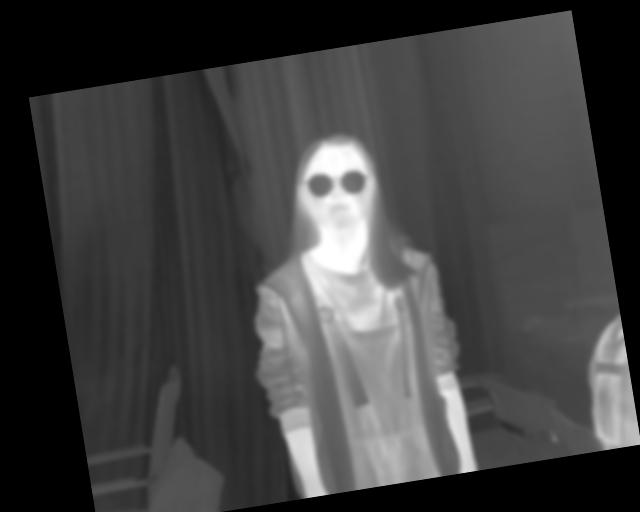face: (290, 128, 380, 238)
